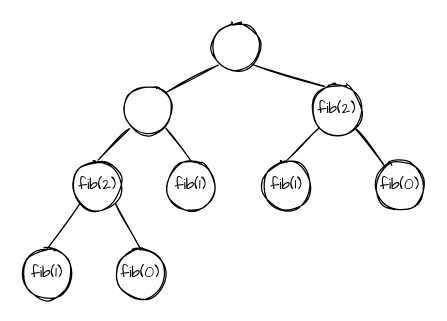
Image size: 447x321. Some labels were removed from this diagram. Here are the shapes that lost their labels. From the top down, the box of each, then its label:
(210, 21, 261, 72): fib(4)
(122, 84, 173, 135): fib(3)
